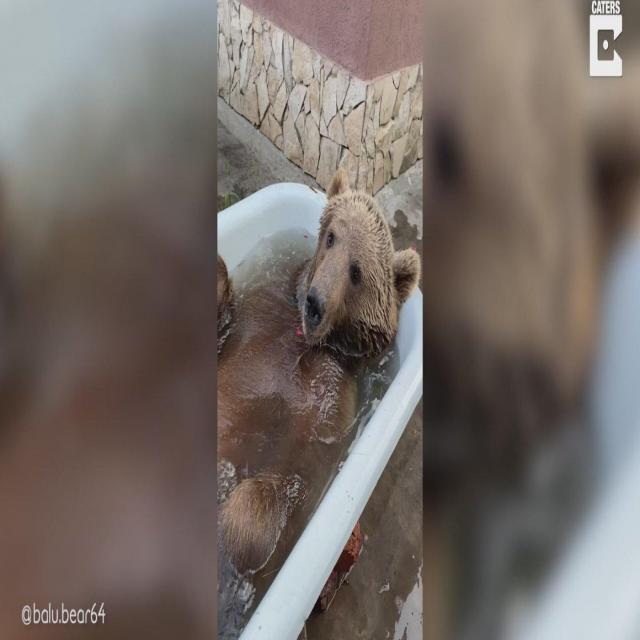Bear: (294, 188, 401, 381)
